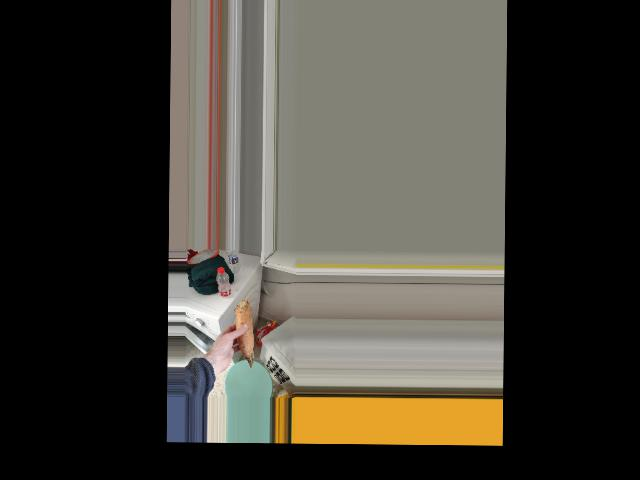sweet_potato: (237, 296, 252, 368)
